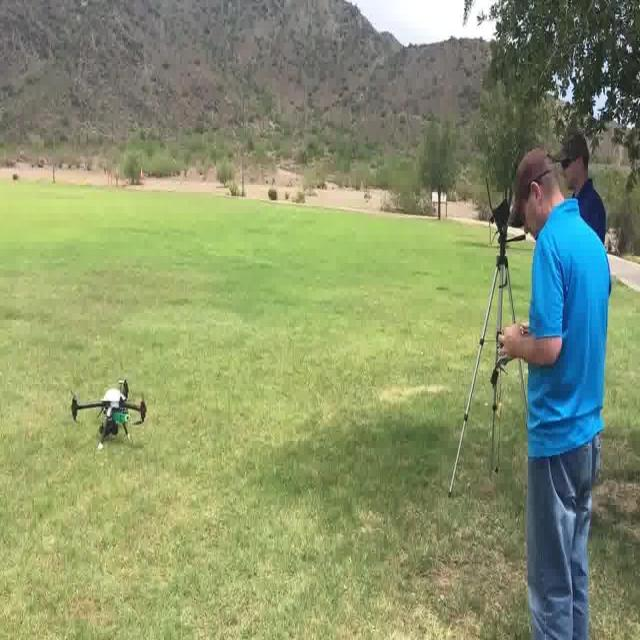drone: (66, 378, 161, 453)
